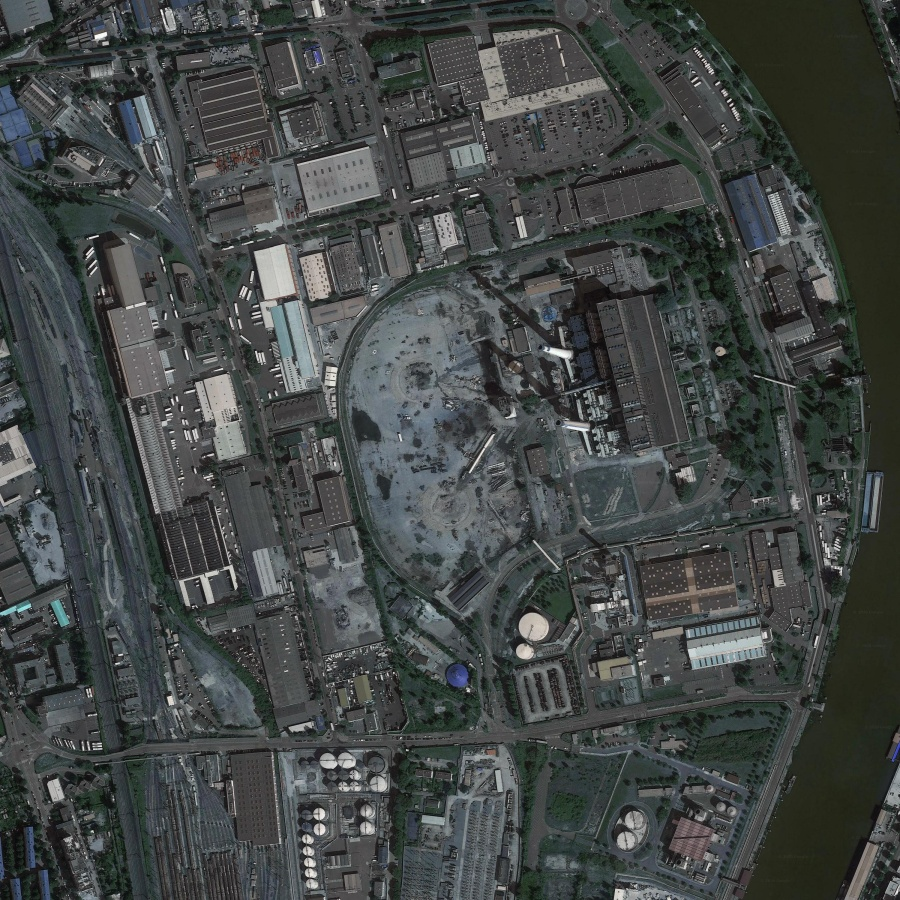PowerPlant: (466, 259, 671, 658)
